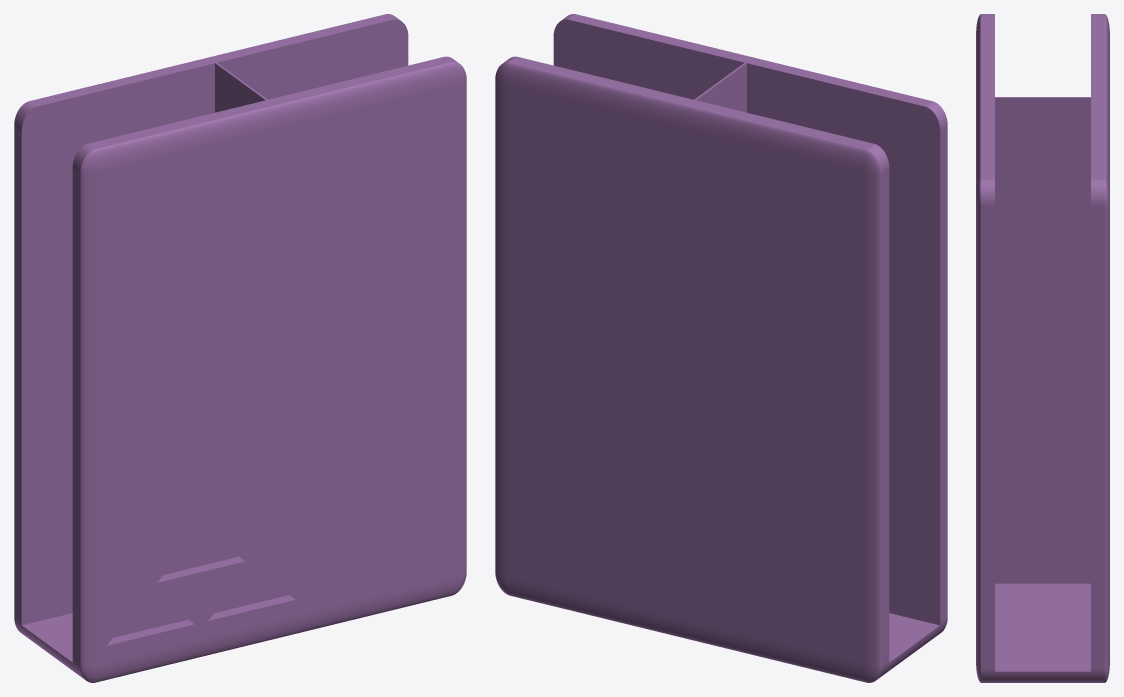
Rendered from spacer_cube_riser_180_0.glb.
The picture shows the model from 3 angles, left to right: view 1: azimuth 30°, elevation 25°; view 2: azimuth 150°, elevation 25°; view 3: azimuth 270°, elevation 25°; orthographic projection. The views are drawn at different scales.
Parts seen in each view (by area): view 1: Mesh_Mesh_head_geo.001_lambert2SG.001; view 2: Mesh_Mesh_head_geo.001_lambert2SG.001; view 3: Mesh_Mesh_head_geo.001_lambert2SG.001.
Part boxes in pixels (x1,y1,x2,y2): Mesh_Mesh_head_geo.001_lambert2SG.001: (14,14,466,682); Mesh_Mesh_head_geo.001_lambert2SG.001: (495,14,947,682); Mesh_Mesh_head_geo.001_lambert2SG.001: (976,14,1109,682).
Bounding box in the file's own units: 0.0699 × 0.0921 × 0.0222.
